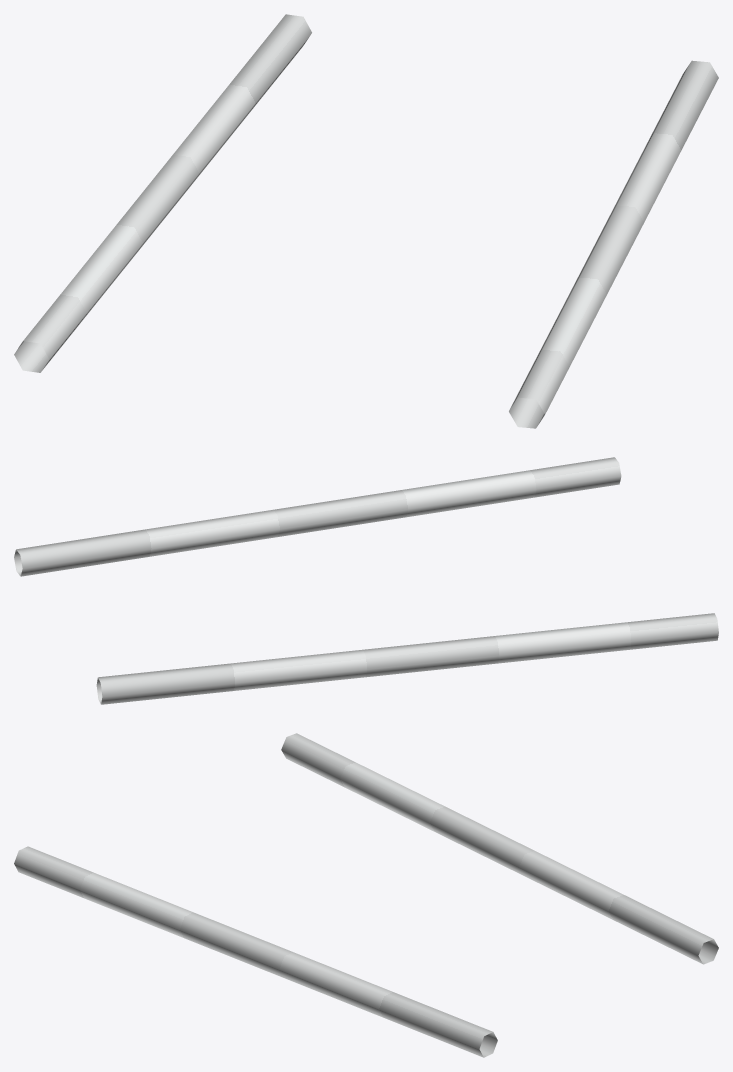
The model's file is nycsignalarm_diagonal8_c9.obj.
The picture shows the model from 3 angles, top to bottom: view 1: azimuth 30°, elevation 25°; view 2: azimuth 150°, elevation 25°; view 3: azimuth 270°, elevation 25°; orthographic projection. The views are drawn at different scales.
Parts seen in each view (by area): view 1: nycsignalarm_diagonal8_c9; view 2: nycsignalarm_diagonal8_c9; view 3: nycsignalarm_diagonal8_c9.
Part boxes in pixels (box(x1,y1,x2,y2)): nycsignalarm_diagonal8_c9: box(14, 14, 718, 428); nycsignalarm_diagonal8_c9: box(14, 457, 718, 704); nycsignalarm_diagonal8_c9: box(14, 733, 718, 1057).
Bounding box in the file's own units: 1.6 × 0.0773 × 1.6.
